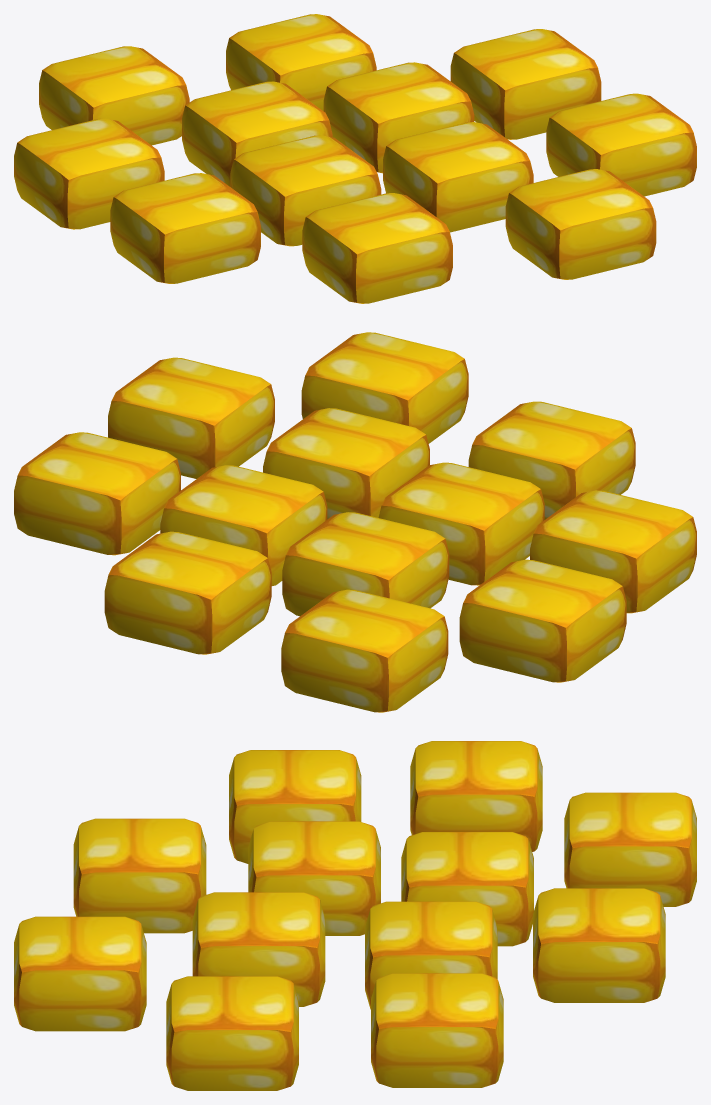
File: CHOCLO_CORTADO_PRP.fbx
3 views of the same model, one above another, from view 1: azimuth 30°, elevation 25°; view 2: azimuth 150°, elevation 25°; view 3: azimuth 270°, elevation 25° (orthographic). The views are drawn at different scales.
Visible parts, largest first — view 1: CHOCLO_CORTADO_PRP; view 2: CHOCLO_CORTADO_PRP; view 3: CHOCLO_CORTADO_PRP.
Boxes of the visible parts, x1,y1,x2,y2 form: CHOCLO_CORTADO_PRP: (14,14,696,303); CHOCLO_CORTADO_PRP: (14,332,696,712); CHOCLO_CORTADO_PRP: (14,741,696,1090).
Bounding box in the file's own units: 3.88 × 0.4517 × 3.81.
1 material, 1 textured.
